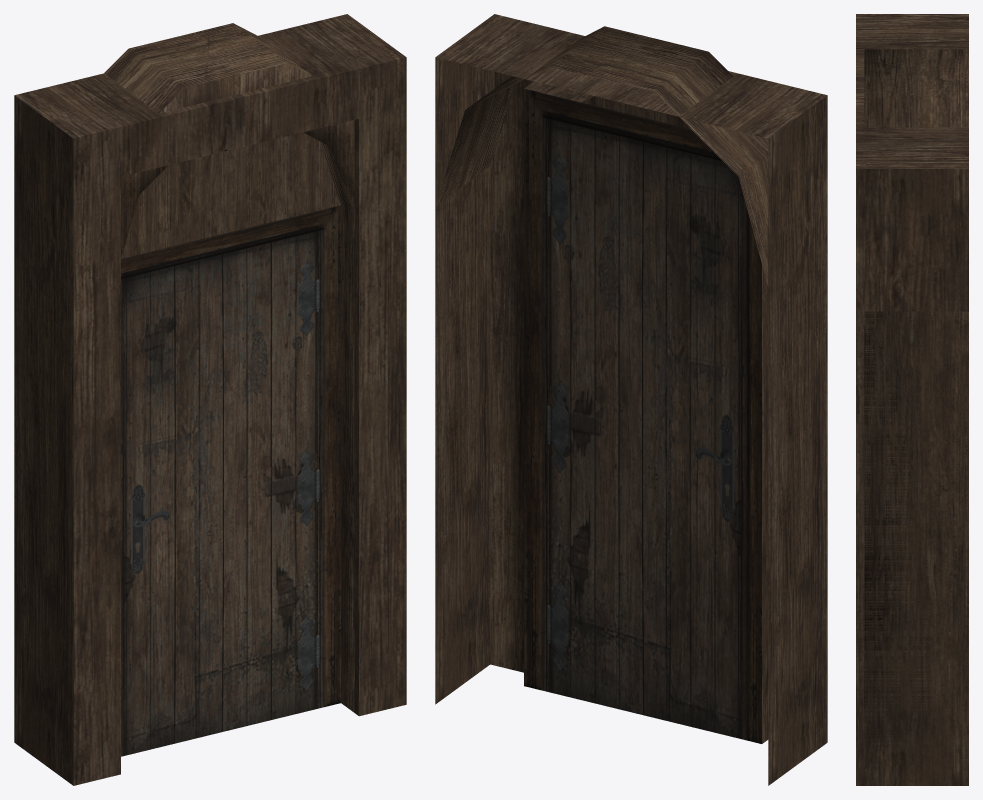
File: Doors.fbx
3 views of the same model, side by side, from view 1: azimuth 30°, elevation 25°; view 2: azimuth 150°, elevation 25°; view 3: azimuth 270°, elevation 25° (orthographic). The views are drawn at different scales.
Parts seen in each view (by area): view 1: Door_Frame, Door_4, Frame, Top_Door; view 2: Door, Door_Frame, Frame, Top_Door; view 3: Door_Frame, Frame.
Boxes of the visible parts, bbox=[...] form: Door_Frame: bbox=[14, 14, 406, 785]; Door_4: bbox=[121, 205, 340, 756]; Frame: bbox=[104, 23, 354, 712]; Top_Door: bbox=[121, 132, 340, 258]; Door: bbox=[524, 88, 761, 743]; Door_Frame: bbox=[435, 14, 827, 785]; Frame: bbox=[435, 26, 779, 702]; Top_Door: bbox=[582, 96, 690, 129]; Door_Frame: bbox=[856, 14, 968, 785]; Frame: bbox=[864, 49, 968, 784].
Size of the model in its own units: 140 by 268 by 43.13.
4 materials, 4 textured.
